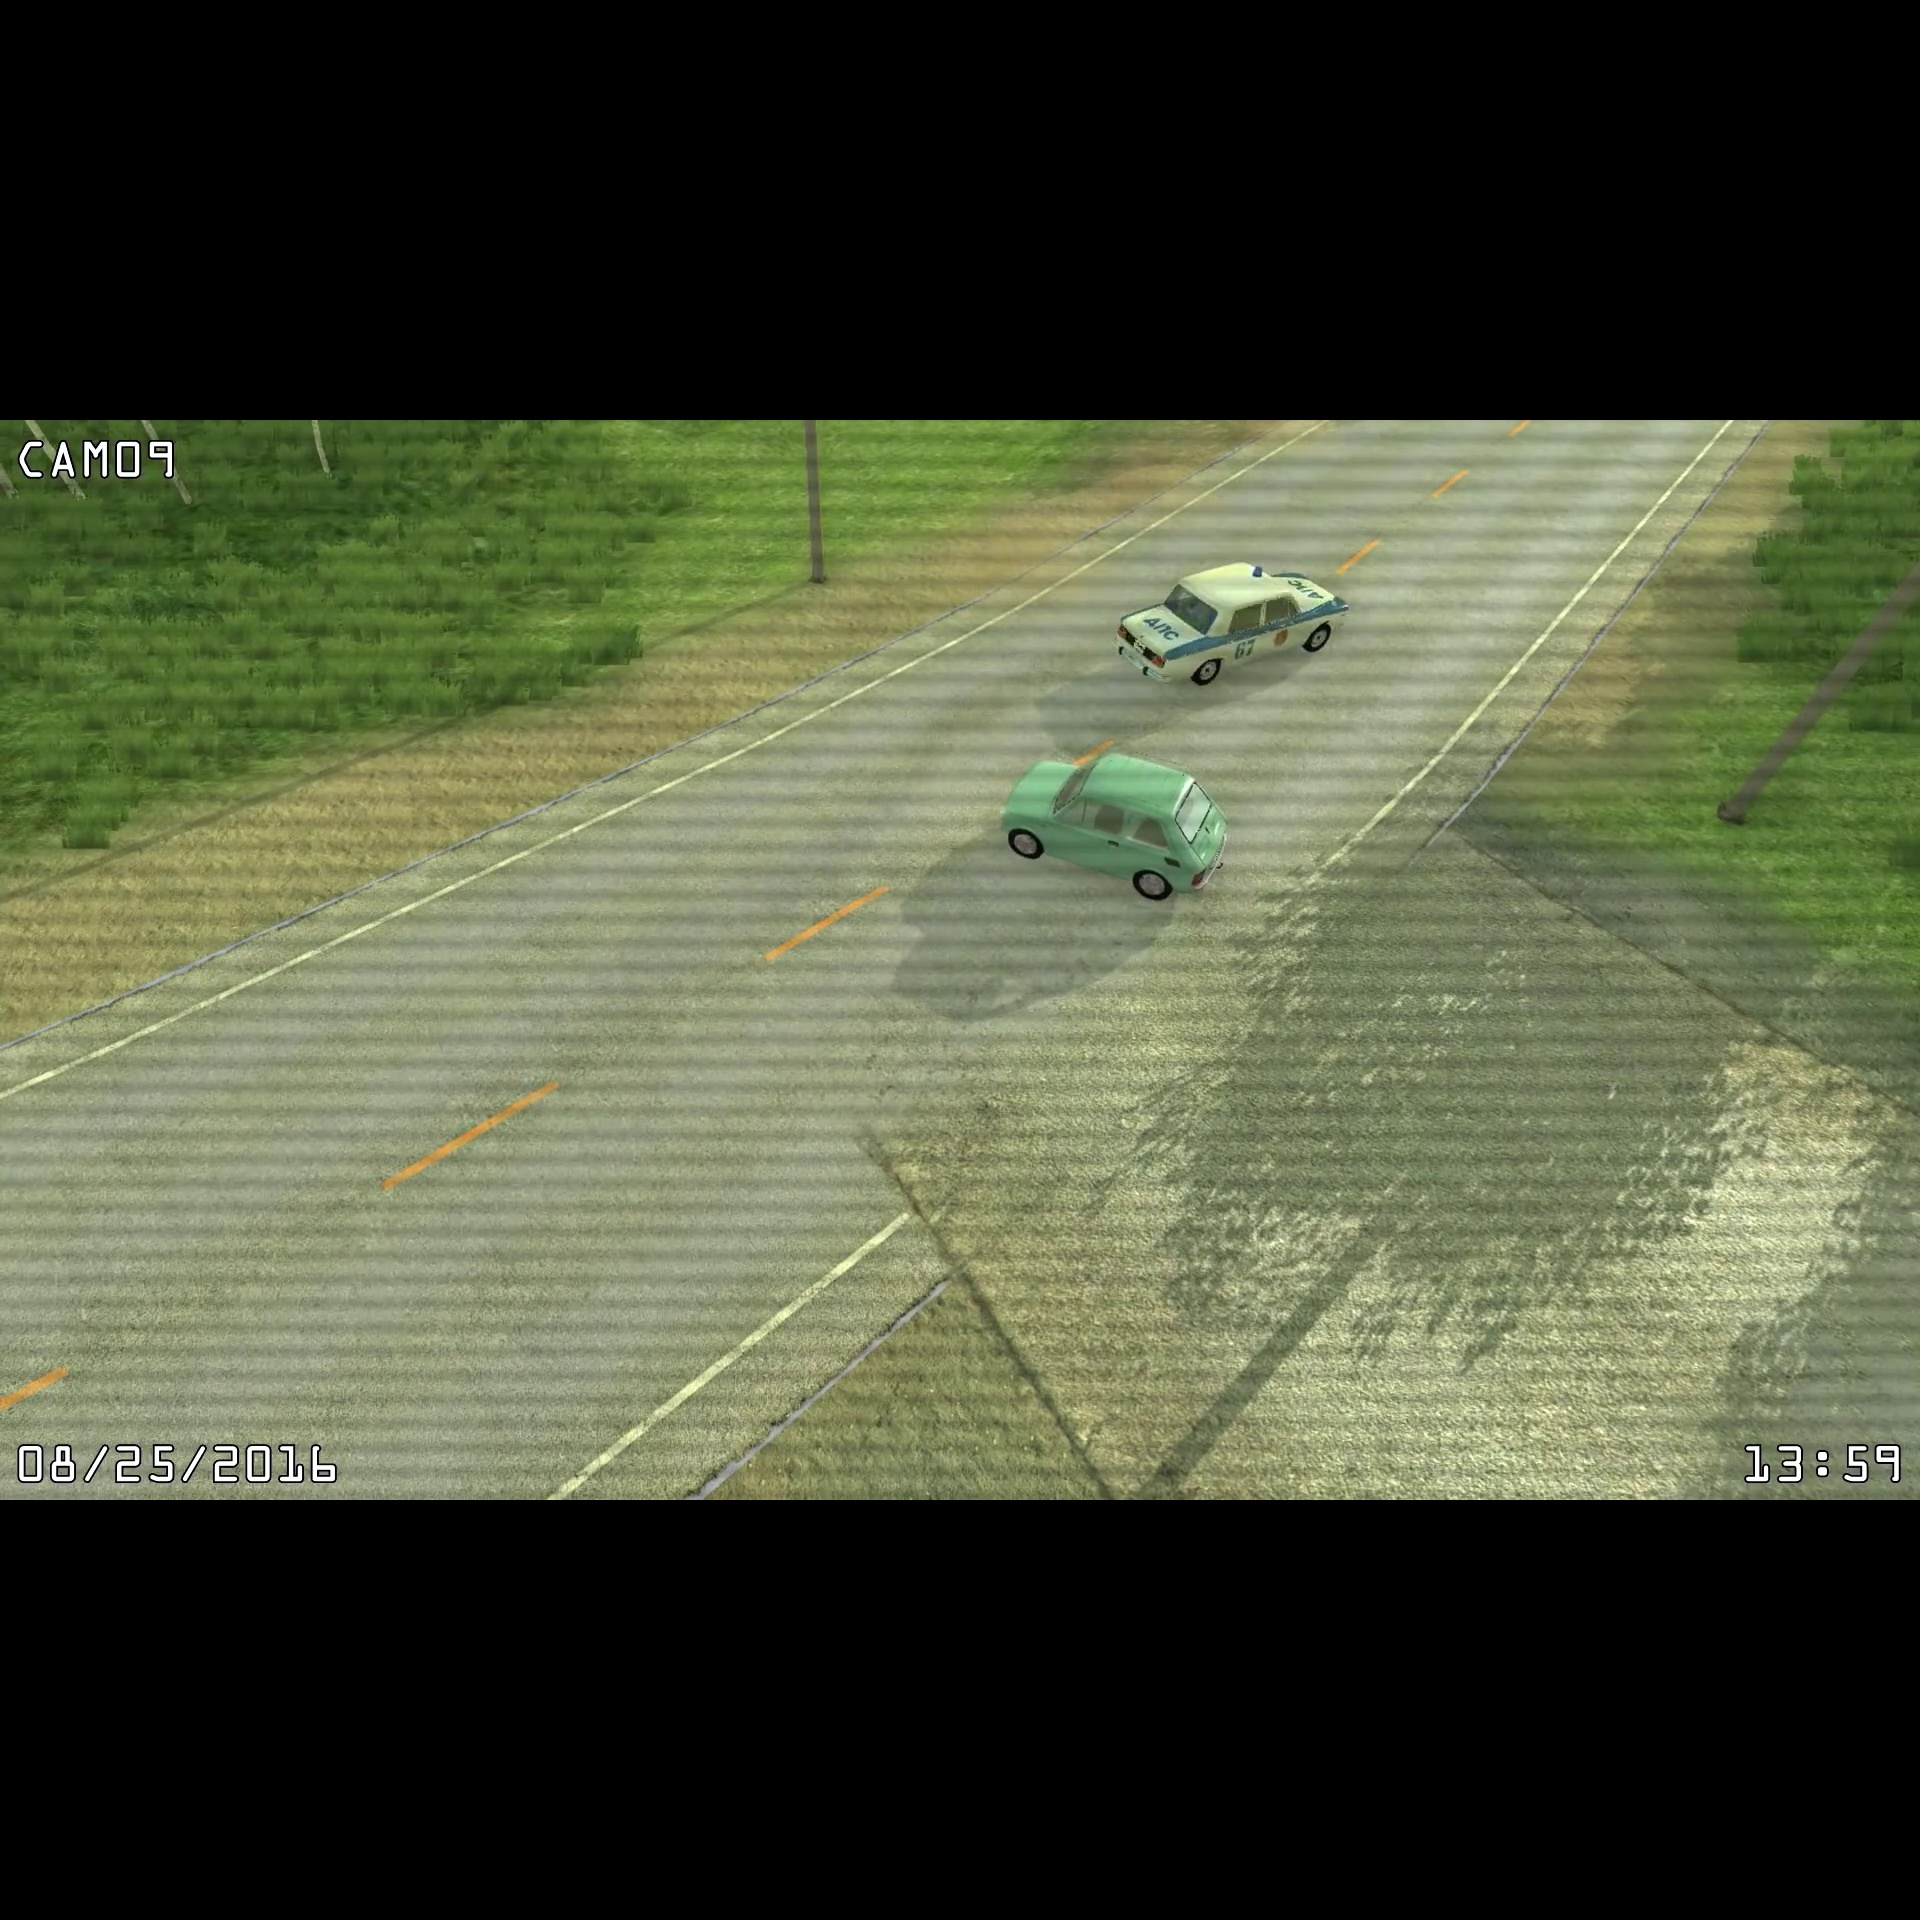vehicle: (992, 745, 1234, 911), (1109, 554, 1354, 695)
